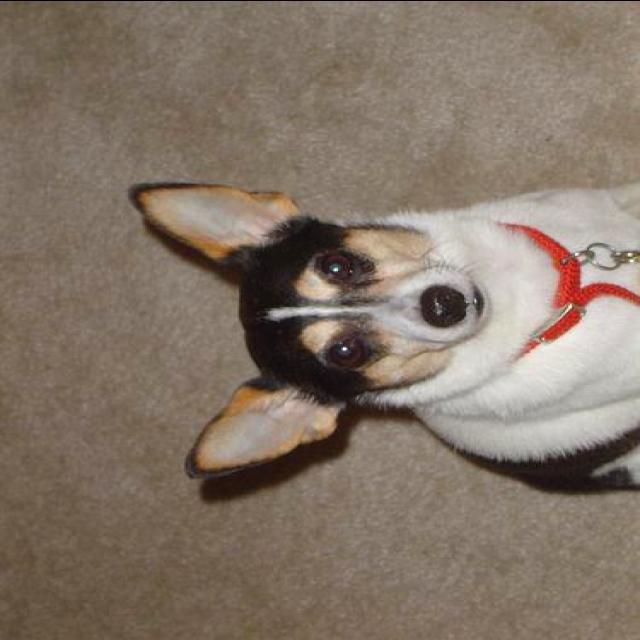toy_terrier: (126, 180, 638, 494)
